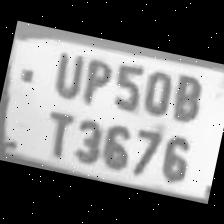0: (136, 62, 177, 118)
3: (64, 110, 106, 166)
5: (104, 57, 148, 114)
6: (152, 125, 196, 187), (94, 116, 137, 173)
7: (122, 118, 163, 180)
B: (164, 68, 208, 124)
P: (76, 51, 116, 109)
T: (33, 101, 76, 160)
U: (44, 44, 88, 101)
